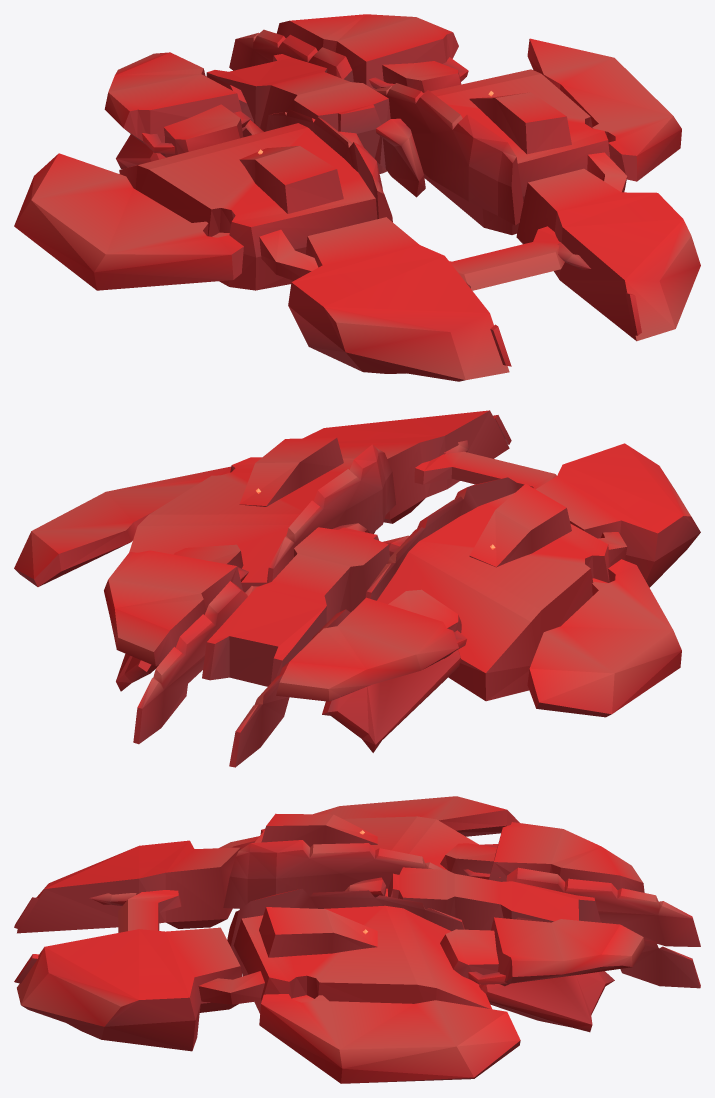
The model's file is devolarium.glb.
3 renders of one model, top to bottom at view 1: azimuth 30°, elevation 25°; view 2: azimuth 150°, elevation 25°; view 3: azimuth 270°, elevation 25°, orthographic. The views are drawn at different scales.
Parts seen in each view (by area): view 1: devolarium; view 2: devolarium; view 3: devolarium.
Boxes of the visible parts, x1=… form: devolarium: x1=14, y1=14, x2=700, y2=381; devolarium: x1=14, y1=410, x2=700, y2=767; devolarium: x1=14, y1=796, x2=700, y2=1083.
Bounding box in the file's own units: 5.1 × 1.08 × 5.77.
